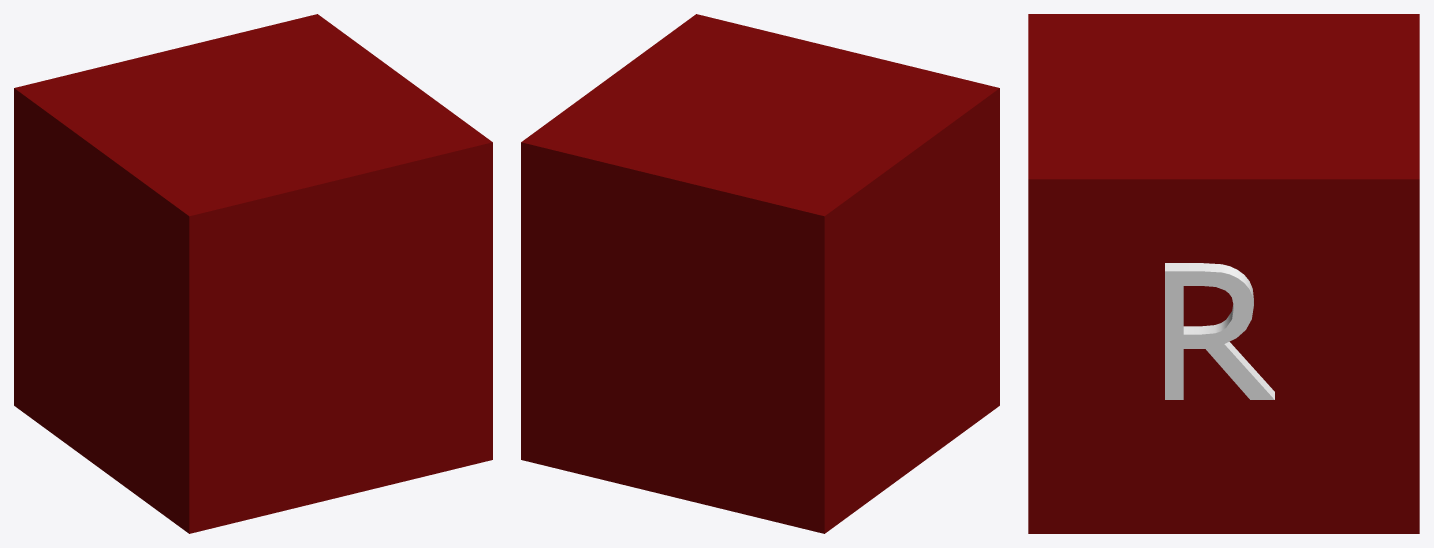
The picture shows the model from 3 angles, left to right: view 1: azimuth 30°, elevation 25°; view 2: azimuth 150°, elevation 25°; view 3: azimuth 270°, elevation 25°; orthographic projection. The views are drawn at different scales.
Parts seen in each view (by area): view 1: SketchUp; view 2: SketchUp; view 3: SketchUp, R (×2).
Boxes of the visible parts, x1,y1,x2,y2 form: SketchUp: (14, 14, 492, 533); SketchUp: (521, 14, 999, 533); SketchUp: (1028, 14, 1419, 533); R (×2): (1165, 263, 1274, 399).
Size of the model in its own units: 21 by 20 by 20.
